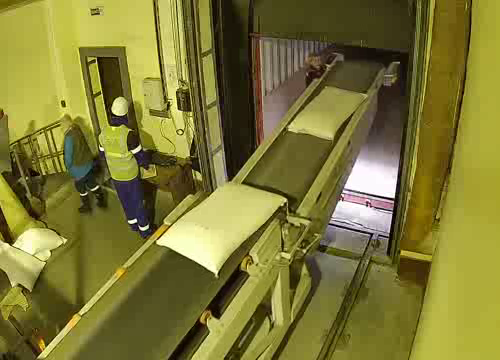bag: (153, 177, 291, 278), (286, 81, 369, 143)
